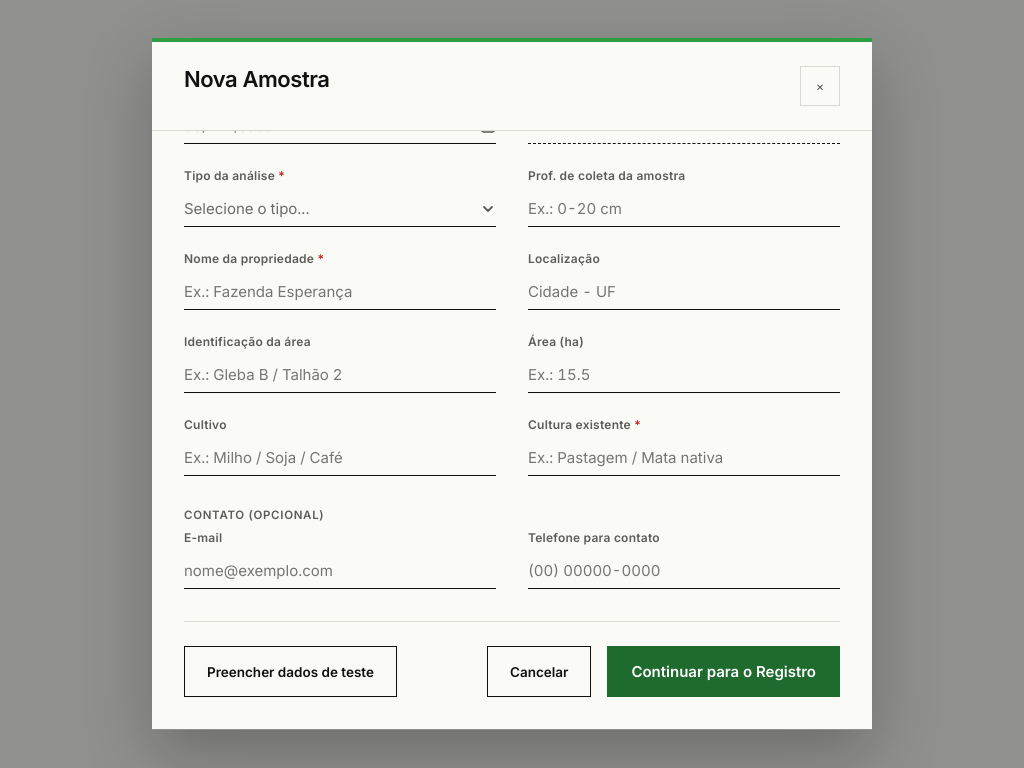
NovaAmostraModal › limpa o erro do campo ao digitar, aplica máscaras e valida contato
(page scrolled)
Click the button "Continuar para o Registro": (724, 672) [607,646,840,697]
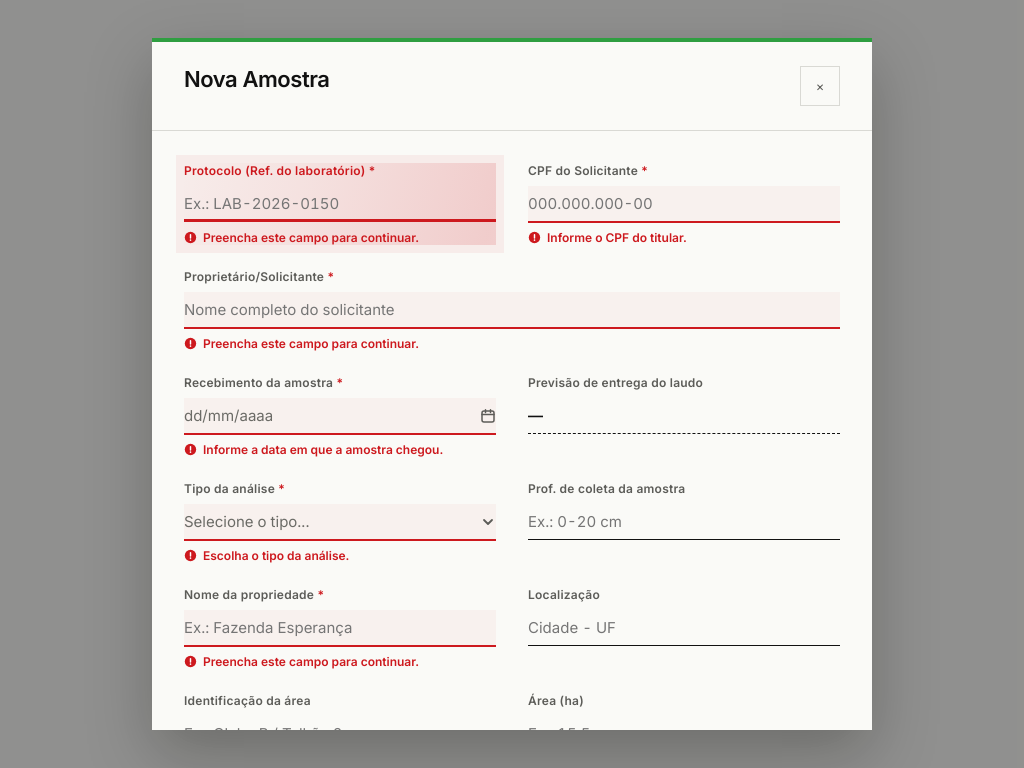
expect the field labelled "Proprietário/Solicitante *" is marked as invalid: met
In the field labelled "Proprietário/Solicitante *": (512, 310) [184,292,840,328], type "Maria"
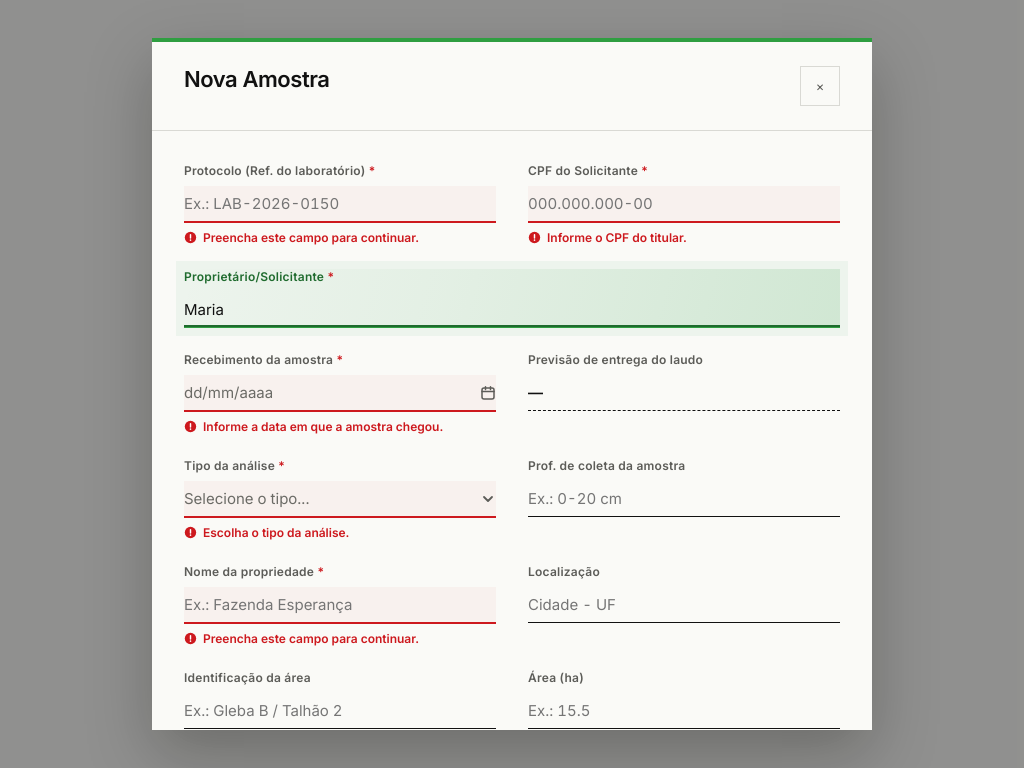
expect the field labelled "Proprietário/Solicitante *" does not have attribute aria-invalid: met, box [184,292,840,328]
In the field labelled "CPF do Solicitante *": (684, 204) [528,186,840,222], type "52998224725"
(page scrolled)
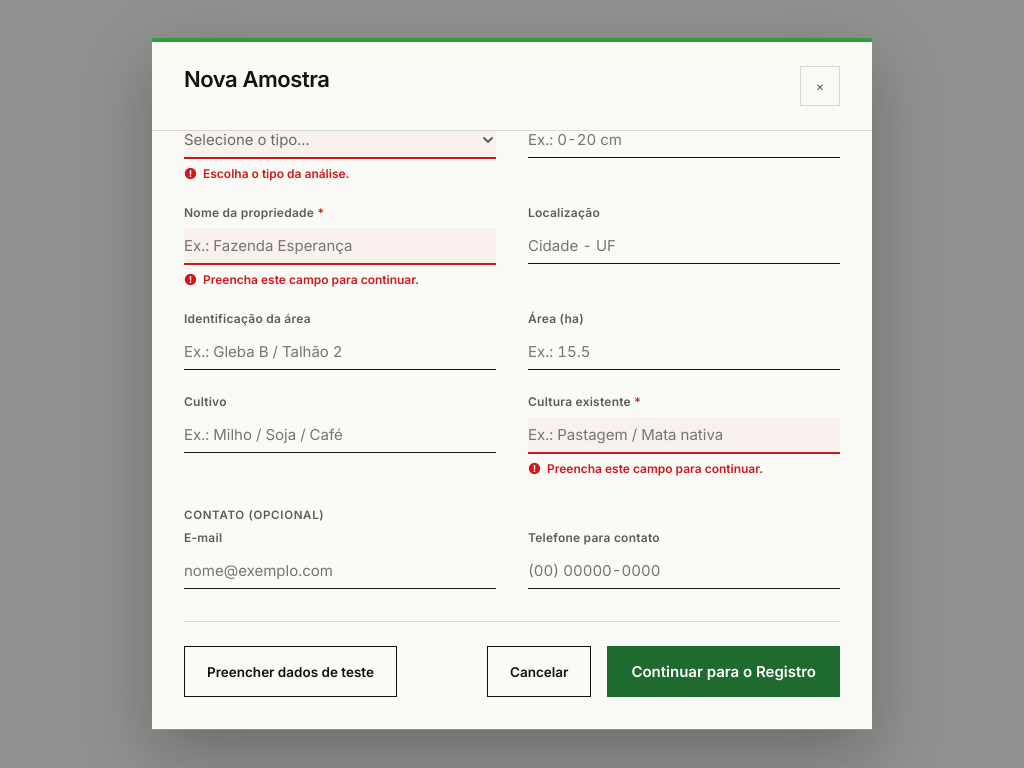
In the field labelled "E-mail": (340, 571) [184,553,496,589], type "invalido"
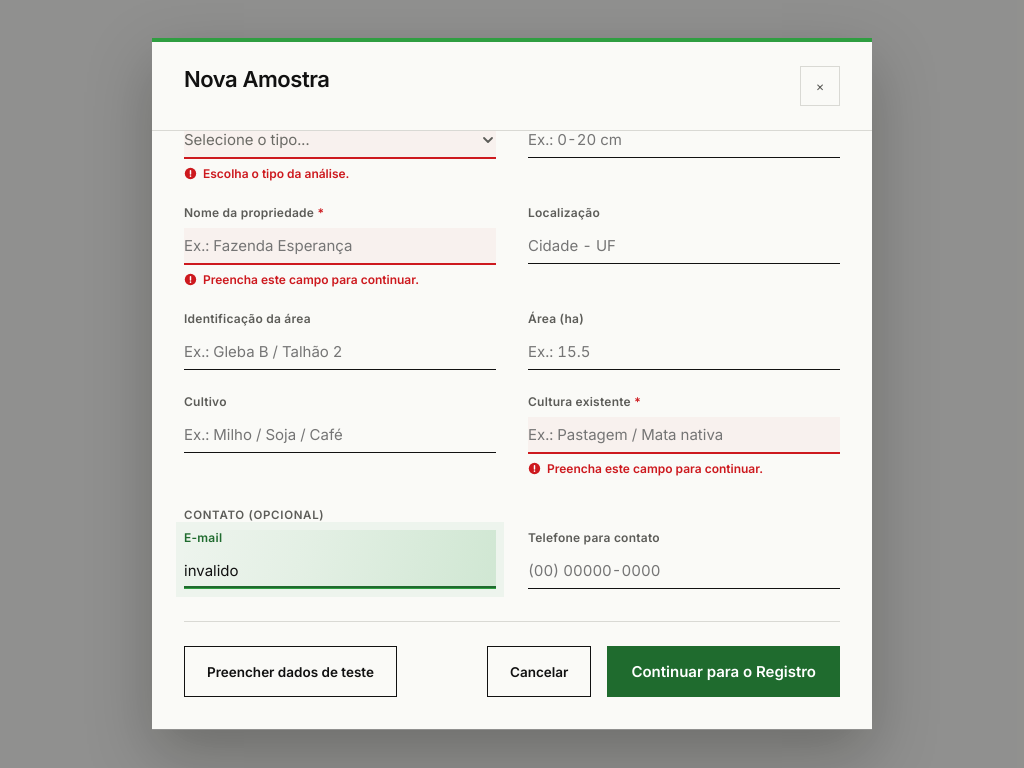
In the field labelled "Telefone para contato": (684, 571) [528,553,840,589], type "8199"
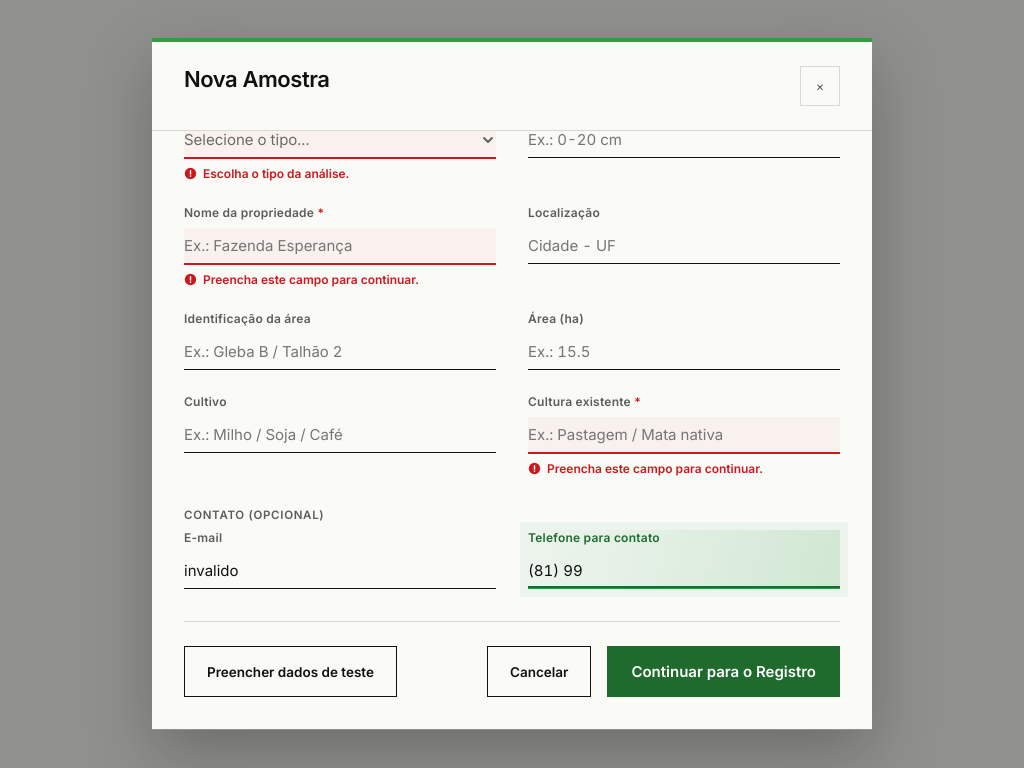
Click the button "Continuar para o Registro": (724, 672) [607,646,840,697]
(page scrolled)
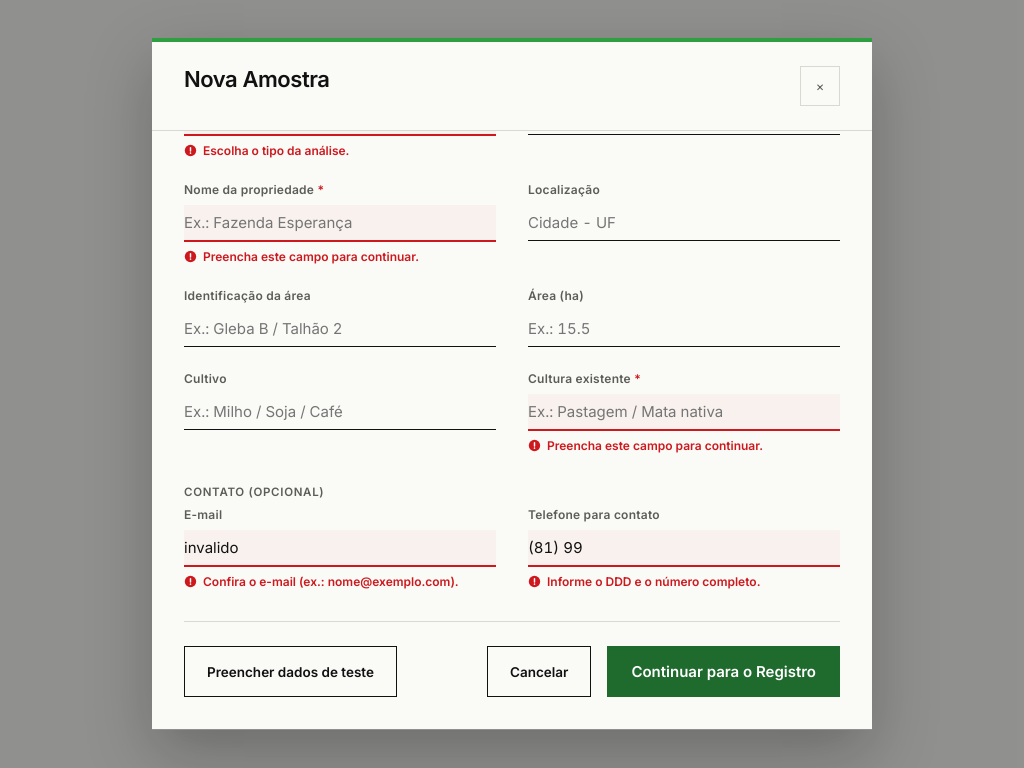
expect the text "Confira o e-mail (ex.: nome@exemplo.com)." is shown: met, box [184,574,496,589]
expect the text "Informe o DDD e o número completo." is shown: met, box [528,574,760,589]
